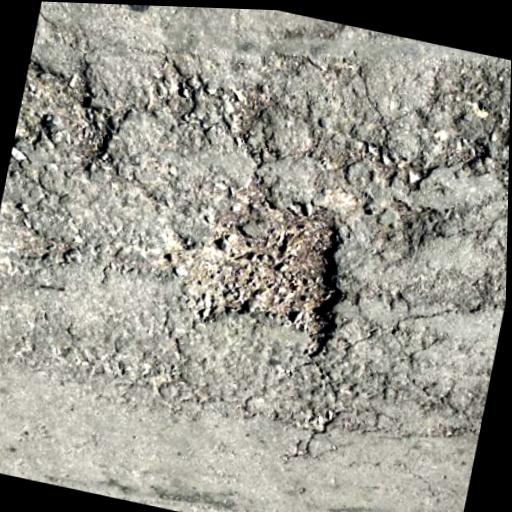pothole: (166, 179, 368, 367), (46, 71, 127, 175)
